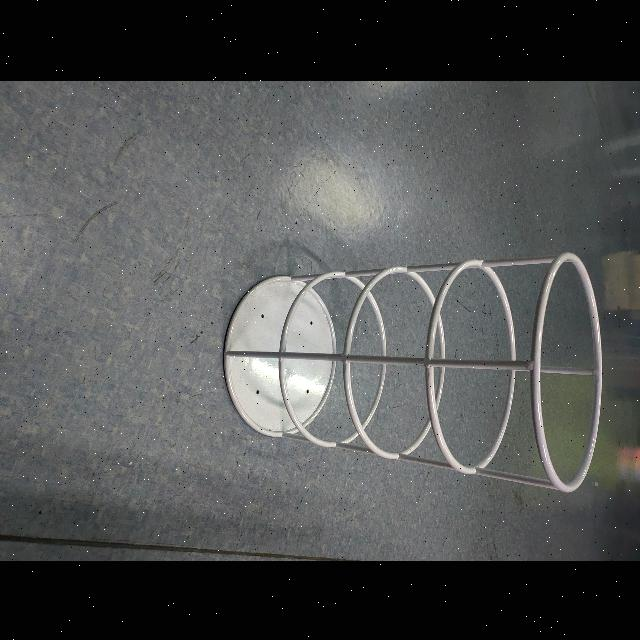S: (218, 246, 606, 498)
